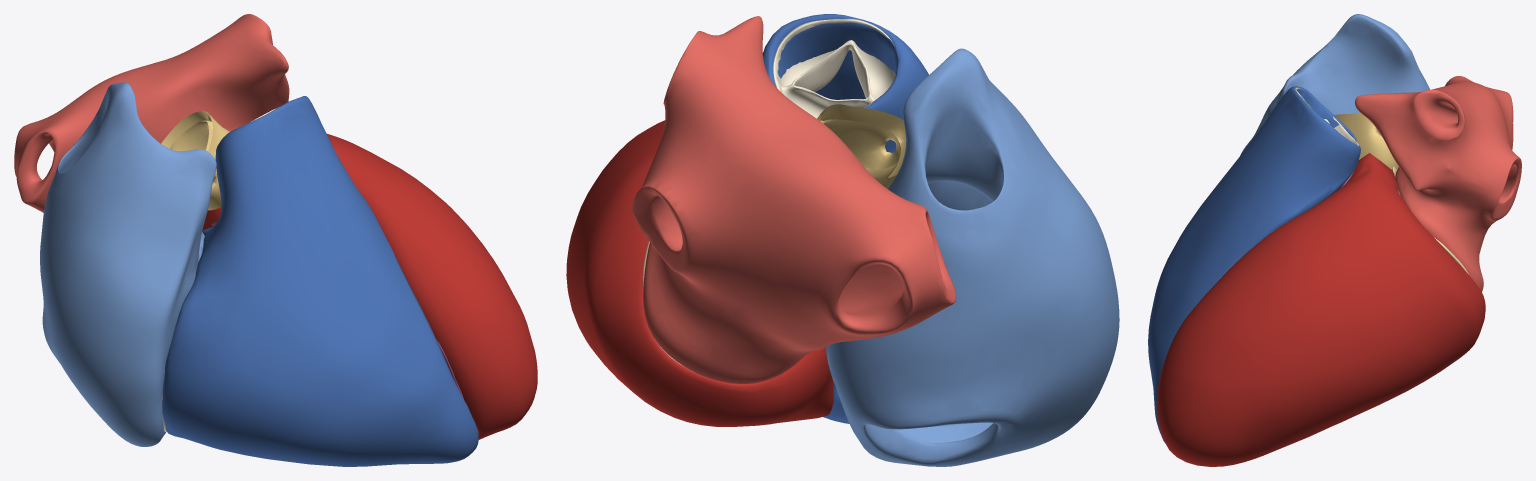
File: coracao.glb
3 views of the same model, side by side, from view 1: azimuth 30°, elevation 25°; view 2: azimuth 150°, elevation 25°; view 3: azimuth 270°, elevation 25° (orthographic). The views are drawn at different scales.
Visible parts, largest first — view 1: VH_M_heart_right_ventricle, VH_M_right_cardiac_atrium, VH_M_heart_left_ventricle, VH_M_left_cardiac_atrium, VH_M_aortic_valve; view 2: VH_M_left_cardiac_atrium, VH_M_right_cardiac_atrium, VH_M_heart_left_ventricle, VH_M_heart_right_ventricle, VH_M_pulmonary_valve, VH_M_aortic_valve; view 3: VH_M_heart_left_ventricle, VH_M_heart_right_ventricle, VH_M_left_cardiac_atrium, VH_M_right_cardiac_atrium, VH_M_aortic_valve.
Part boxes in pixels (x1=…): VH_M_heart_right_ventricle: x1=162, y1=96, x2=478, y2=466; VH_M_right_cardiac_atrium: x1=40, y1=82, x2=216, y2=446; VH_M_heart_left_ventricle: x1=202, y1=134, x2=537, y2=439; VH_M_left_cardiac_atrium: x1=14, y1=14, x2=289, y2=212; VH_M_aortic_valve: x1=161, y1=111, x2=229, y2=210; VH_M_left_cardiac_atrium: x1=632, y1=16, x2=956, y2=383; VH_M_right_cardiac_atrium: x1=826, y1=48, x2=1119, y2=466; VH_M_heart_left_ventricle: x1=566, y1=120, x2=833, y2=426; VH_M_heart_right_ventricle: x1=763, y1=14, x2=928, y2=423; VH_M_pulmonary_valve: x1=773, y1=19, x2=895, y2=118; VH_M_aortic_valve: x1=817, y1=104, x2=905, y2=188; VH_M_heart_left_ventricle: x1=1156, y1=153, x2=1485, y2=466; VH_M_heart_right_ventricle: x1=1148, y1=86, x2=1360, y2=442; VH_M_left_cardiac_atrium: x1=1355, y1=76, x2=1521, y2=291; VH_M_right_cardiac_atrium: x1=1240, y1=14, x2=1429, y2=155; VH_M_aortic_valve: x1=1334, y1=112, x2=1398, y2=169.
Size of the model in its own units: 0.1243 by 0.1054 by 0.1052.
